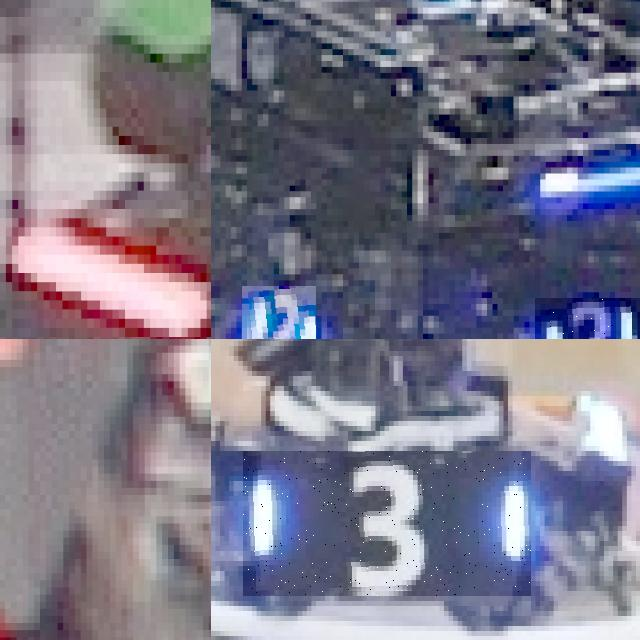B2: (535, 298, 640, 339), (241, 286, 316, 339)
B3: (243, 451, 531, 596)
